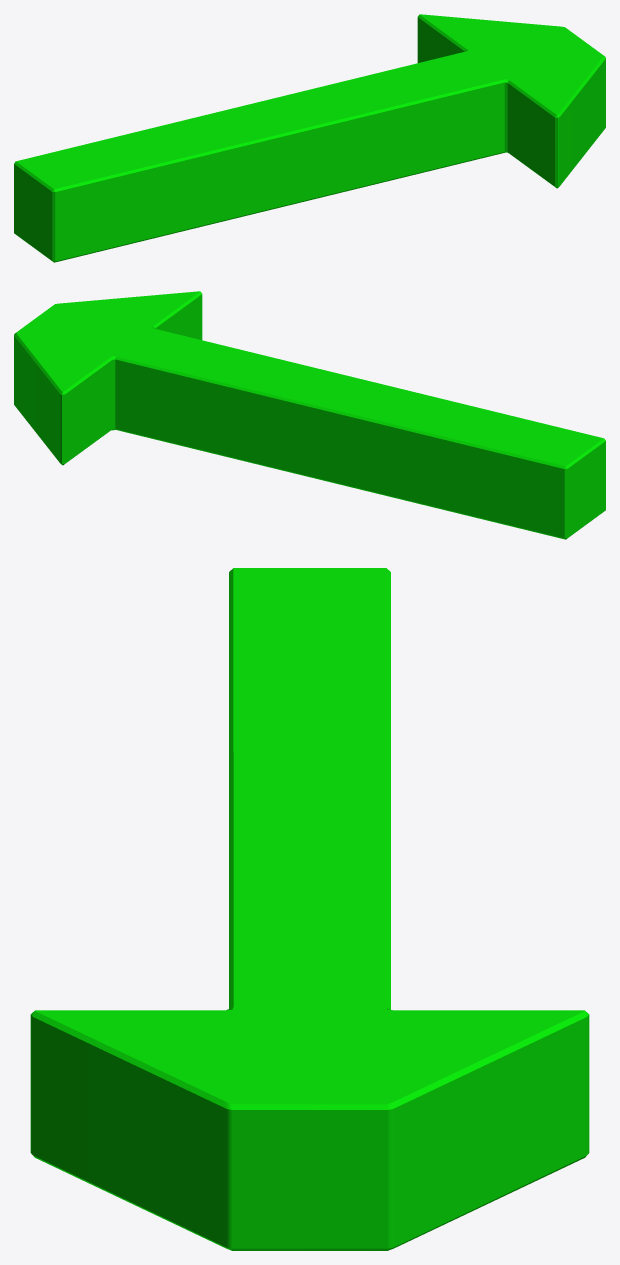
Rendered from pil.fbx.
The picture shows the model from 3 angles, top to bottom: view 1: azimuth 30°, elevation 25°; view 2: azimuth 150°, elevation 25°; view 3: azimuth 270°, elevation 25°; orthographic projection. The views are drawn at different scales.
Visible parts, largest first — view 1: pil; view 2: pil; view 3: pil.
Part boxes in pixels (box(x1,y1,x2,y2)): pil: box(14, 14, 605, 262); pil: box(14, 291, 605, 539); pil: box(30, 568, 589, 1250).
Bounding box in the file's own units: 78.89 × 10 × 34.49.
